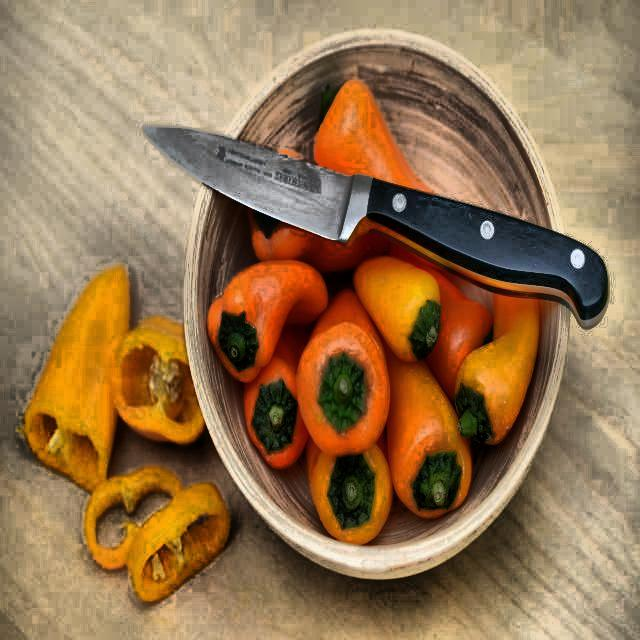knife: (141, 105, 614, 332)
